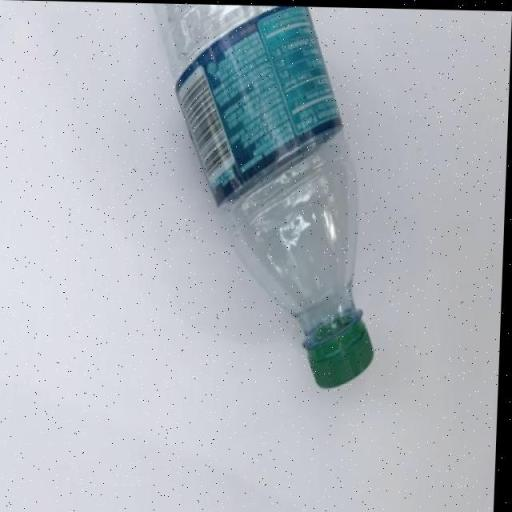plastic: (145, 3, 387, 388)
